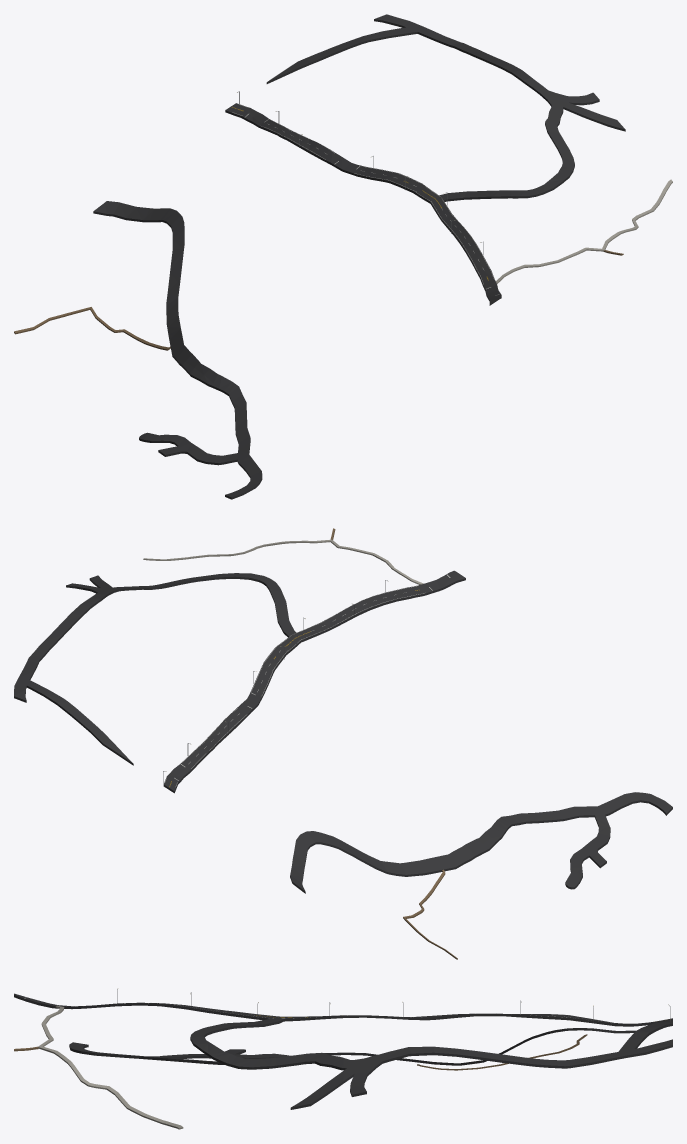
3 renders of one model, top to bottom at view 1: azimuth 30°, elevation 25°; view 2: azimuth 150°, elevation 25°; view 3: azimuth 270°, elevation 25°, orthographic. The views are drawn at different scales.
Size of the model in its own units: 293 by 127 by 292.
